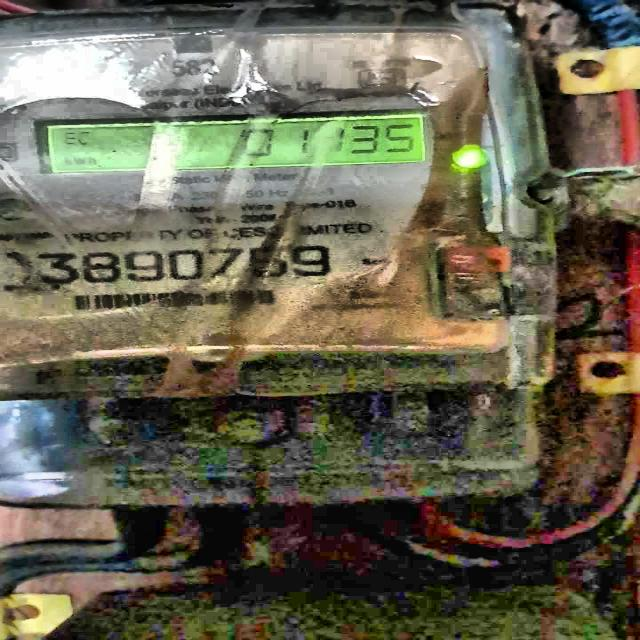Digital: (0, 10, 542, 398)
Reading: (222, 121, 421, 163)
Serial No.: (31, 246, 341, 284)
